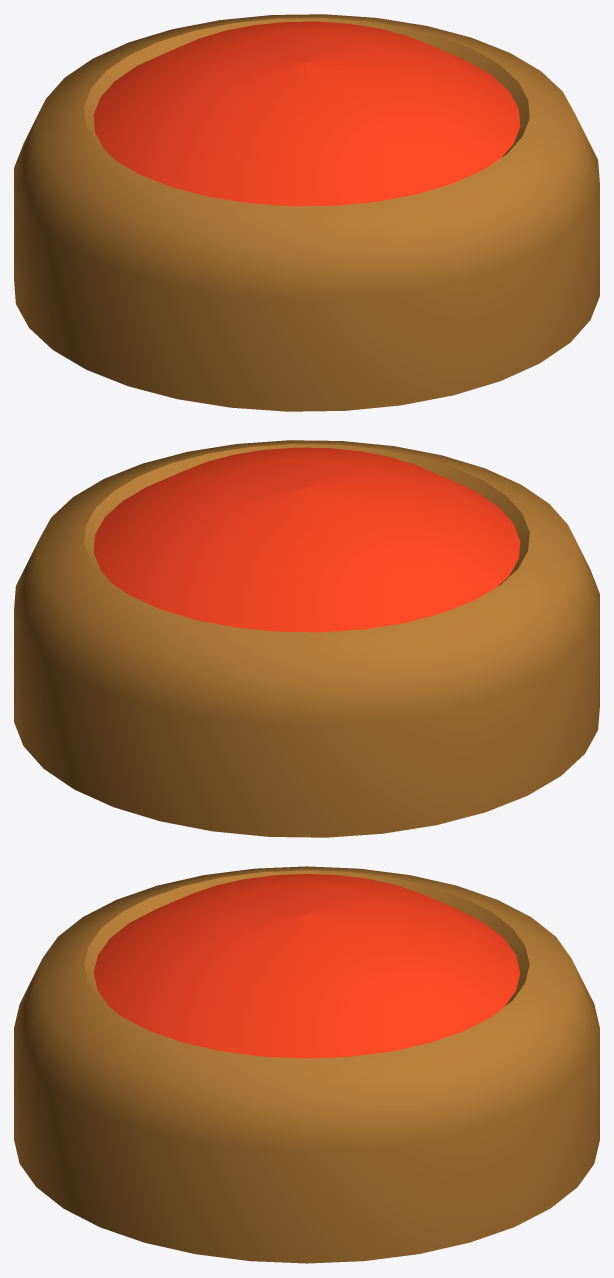
File: spot-target.dae
The picture shows the model from 3 angles, top to bottom: view 1: azimuth 30°, elevation 25°; view 2: azimuth 150°, elevation 25°; view 3: azimuth 270°, elevation 25°; orthographic projection.
Parts seen in each view (by area): view 1: accent, sling_lens; view 2: accent, sling_lens; view 3: accent, sling_lens.
Boxes of the visible parts, bbox=[...] form: accent: bbox=[14, 14, 599, 411]; sling_lens: bbox=[93, 21, 520, 206]; accent: bbox=[14, 440, 599, 837]; sling_lens: bbox=[93, 447, 520, 632]; accent: bbox=[14, 866, 599, 1263]; sling_lens: bbox=[93, 874, 520, 1058].
Size of the model in its own units: 2 by 0.85 by 2.
